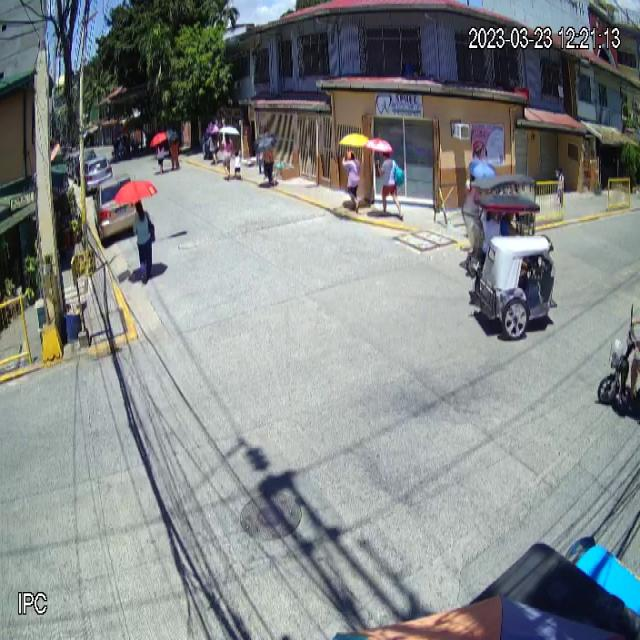Tricycle: (472, 196, 558, 340)
